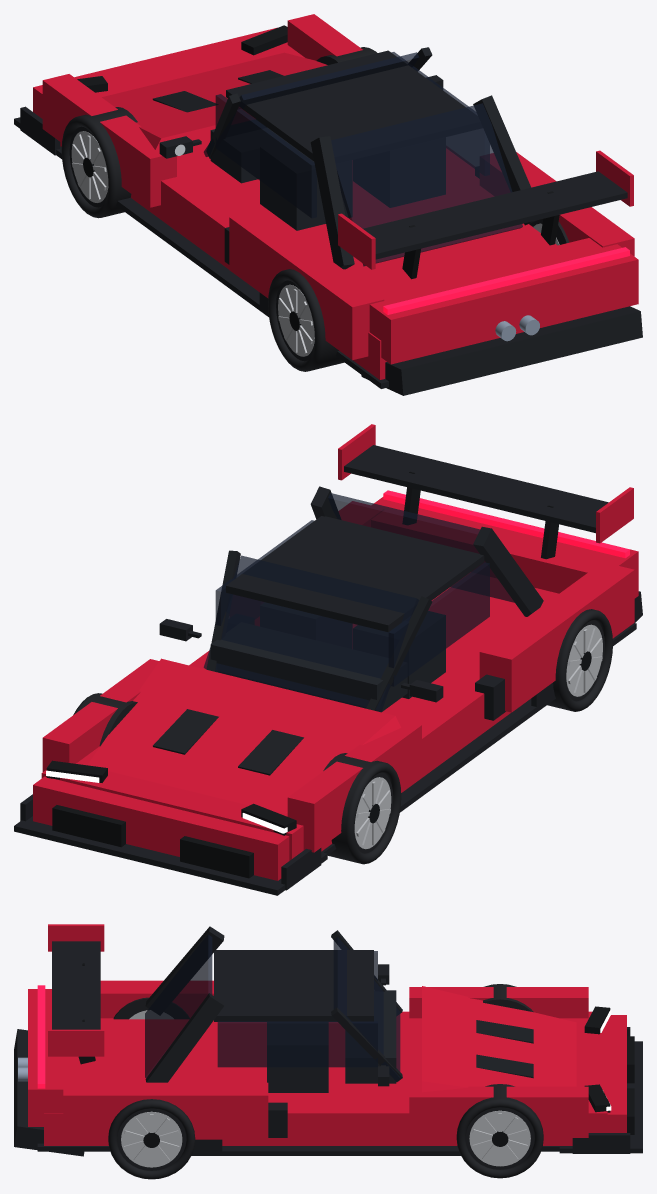
The model's file is car.glb.
3 renders of one model, top to bottom at view 1: azimuth 30°, elevation 25°; view 2: azimuth 150°, elevation 25°; view 3: azimuth 270°, elevation 25°, orthographic. The views are drawn at different scales.
Visible parts, largest first — view 1: Chassis, Wheel_FL, Wheel_RL; view 2: Chassis, Wheel_FL, Wheel_RL, Wheel_FR; view 3: Chassis, Wheel_FR, Wheel_RR, Wheel_RL, Wheel_FL.
Part boxes in pixels (x1=…): Chassis: x1=14, y1=14, x2=642, y2=395; Wheel_FL: x1=61, y1=107, x2=137, y2=218; Wheel_RL: x1=268, y1=269, x2=344, y2=371; Chassis: x1=14, y1=424, x2=642, y2=895; Wheel_FL: x1=323, y1=753, x2=401, y2=864; Wheel_RL: x1=547, y1=609, x2=612, y2=711; Wheel_FR: x1=73, y1=693, x2=137, y2=746; Chassis: x1=14, y1=924, x2=642, y2=1156; Wheel_FR: x1=456, y1=1084, x2=543, y2=1178; Wheel_RR: x1=108, y1=1099, x2=195, y2=1179; Wheel_RL: x1=113, y1=997, x2=189, y2=1019; Wheel_FL: x1=483, y1=984, x2=533, y2=1012.
Bounding box in the file's own units: 2.23 × 1.37 × 4.91.
